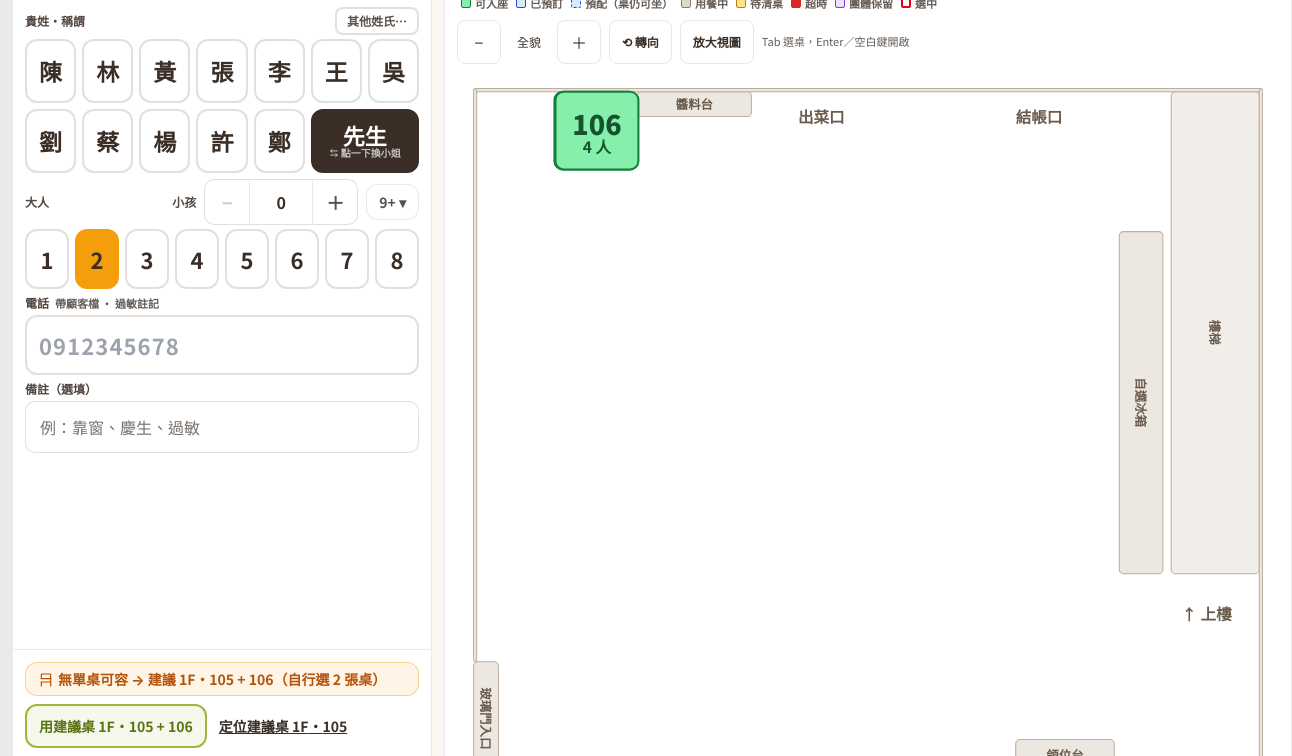
Test: 帶位面板「用建議桌」：建議組合不完整 → 一張都不選 › 對照：建議組合整組可帶位 → 整組選好（確認鈕列出兩張桌）
This screenshot has width=1292, height=756.
Click the button with test id "walkin-apply-suggestion" at [116, 726], box [25,704,207,748]
(page scrolled)
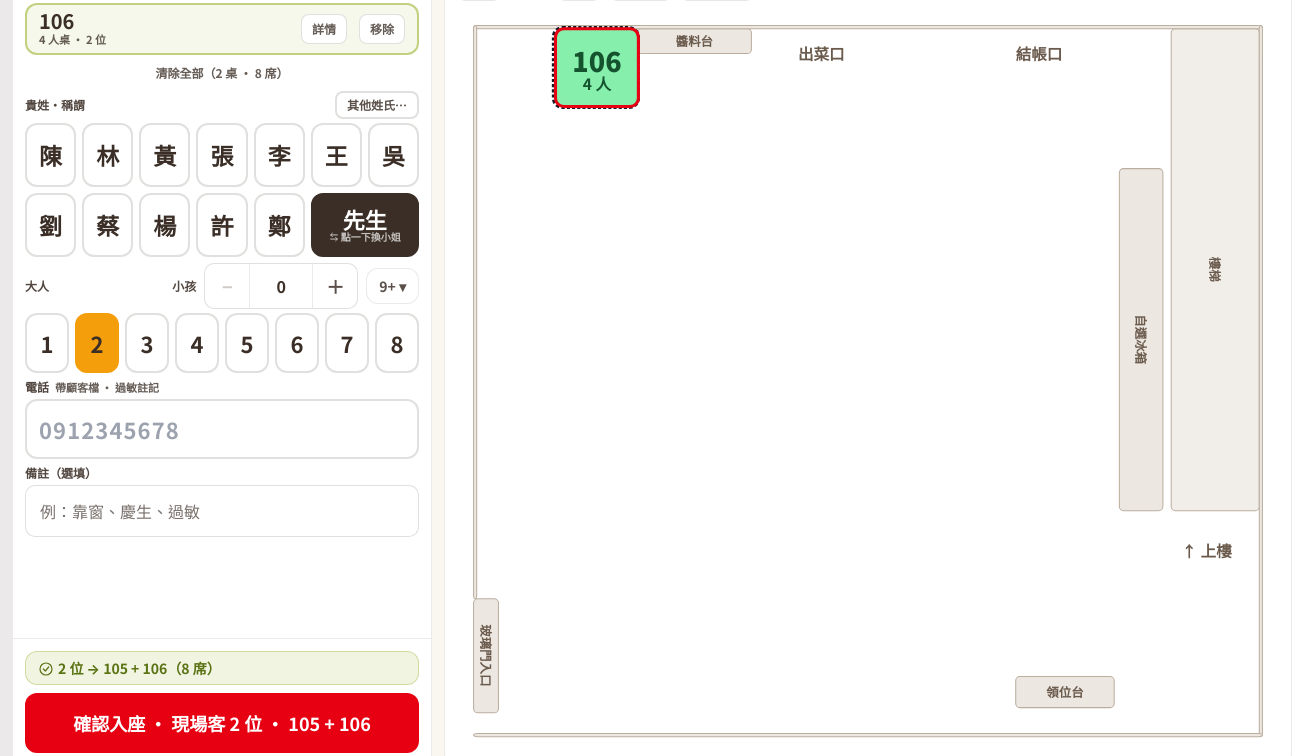
Check: the button with test id "walkin-seat" shows "105 + 106", box [25,693,419,753]
